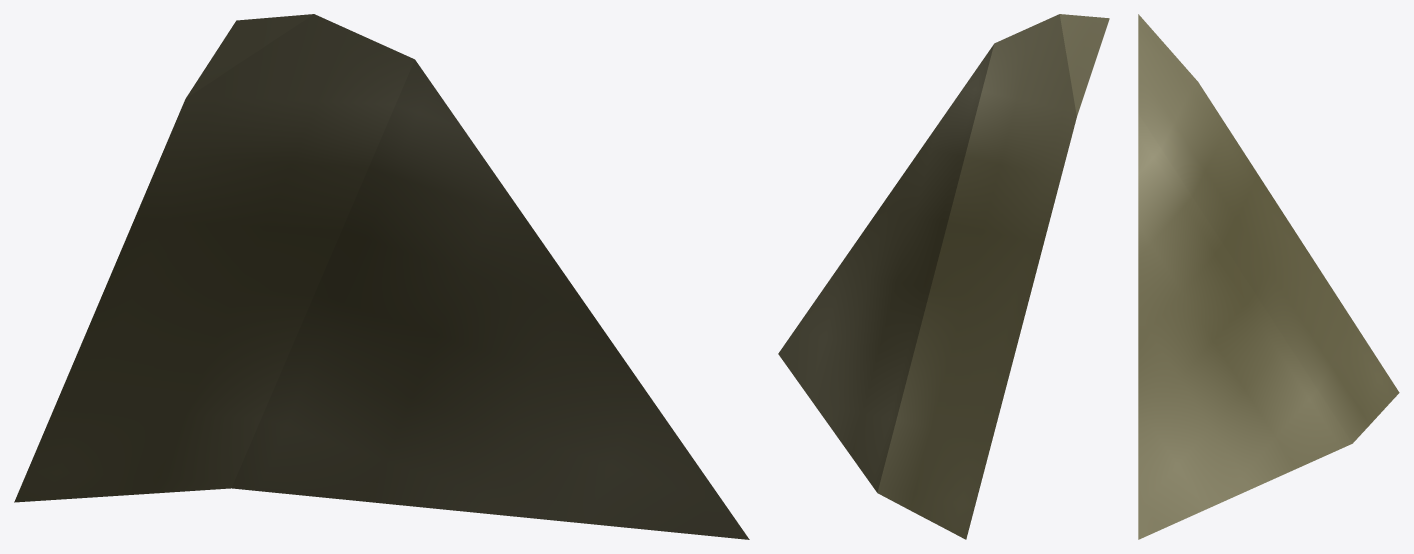
3 renders of one model, left to right at view 1: azimuth 30°, elevation 25°; view 2: azimuth 150°, elevation 25°; view 3: azimuth 270°, elevation 25°, orthographic. The views are drawn at different scales.
Bounding box in the file's own units: 0.0637 × 0.0764 × 0.0478.
1 material, 1 textured.
